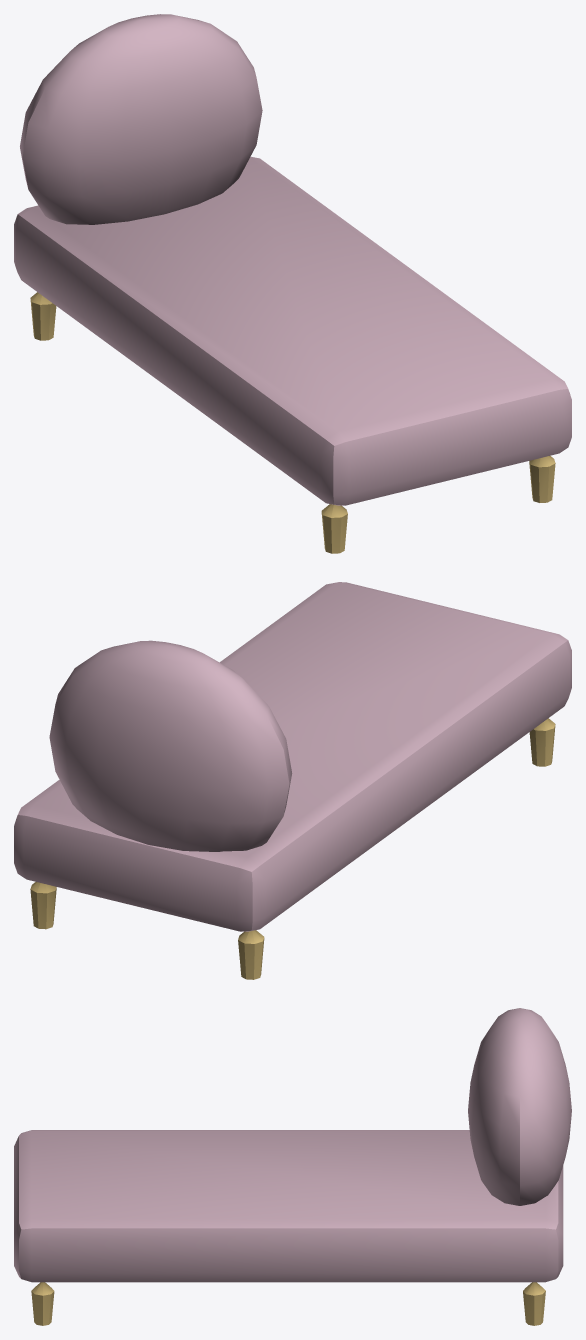
The model's file is chaise.glb.
3 renders of one model, top to bottom at view 1: azimuth 30°, elevation 25°; view 2: azimuth 150°, elevation 25°; view 3: azimuth 270°, elevation 25°, orthographic. The views are drawn at different scales.
Visible parts, largest first — view 1: boat_velvetp, boat_brass2; view 2: boat_velvetp, boat_brass2; view 3: boat_velvetp, boat_brass2.
Boxes of the visible parts, x1=… form: boat_velvetp: x1=14, y1=14, x2=571, y2=505; boat_brass2: x1=30, y1=292, x2=555, y2=553; boat_velvetp: x1=14, y1=582, x2=571, y2=931; boat_brass2: x1=30, y1=718, x2=555, y2=979; boat_velvetp: x1=14, y1=1008, x2=571, y2=1282; boat_brass2: x1=31, y1=1282, x2=545, y2=1325.
Bounding box in the file's own units: 0.87 × 0.97 × 1.93.
